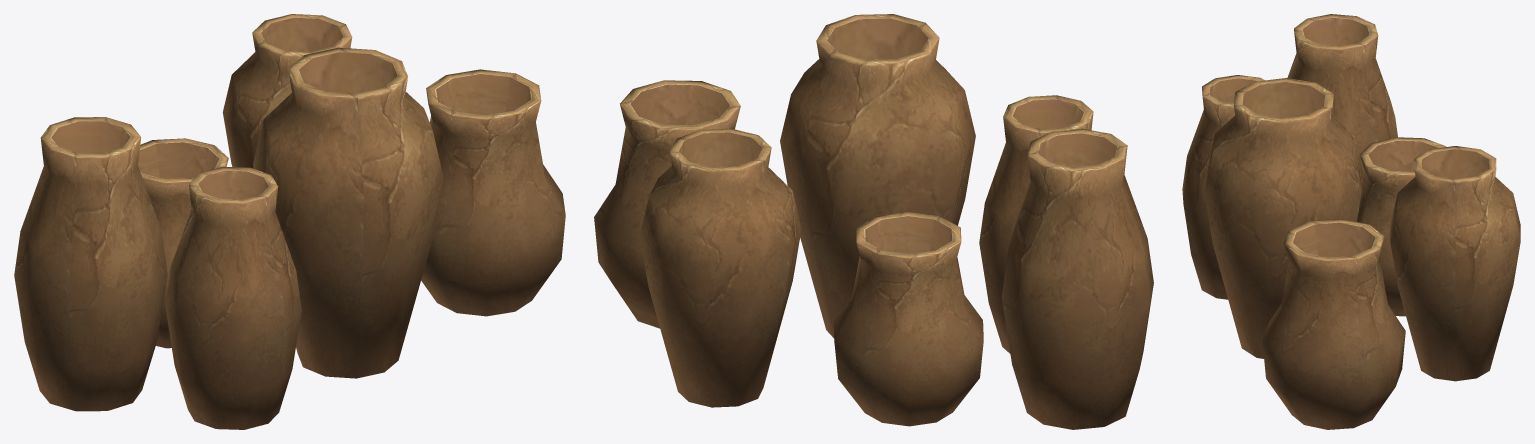
The model's file is Jugs_Preset_02.FBX.
The picture shows the model from 3 angles, left to right: view 1: azimuth 30°, elevation 25°; view 2: azimuth 150°, elevation 25°; view 3: azimuth 270°, elevation 25°; orthographic projection. The views are drawn at different scales.
Visible parts, largest first — view 1: Jugs_Preset_02; view 2: Jugs_Preset_02; view 3: Jugs_Preset_02.
Boxes of the visible parts, <box> form: Jugs_Preset_02: <box>14,14,565,429</box>; Jugs_Preset_02: <box>594,14,1153,429</box>; Jugs_Preset_02: <box>1182,14,1520,429</box>.
Bounding box in the file's own units: 175 × 113 × 89.61.
